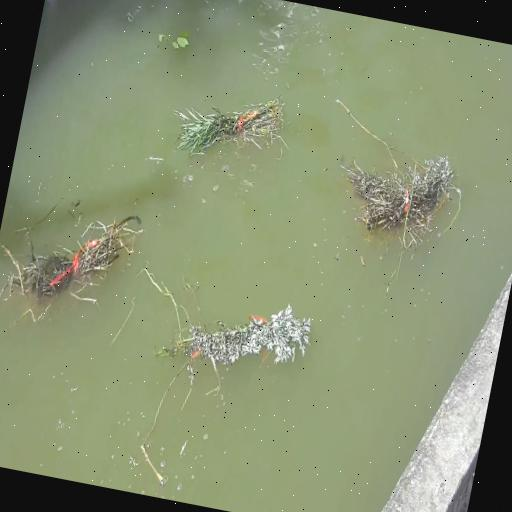twig: (159, 277, 312, 403), (13, 193, 143, 330), (346, 140, 452, 248), (175, 80, 283, 171)
